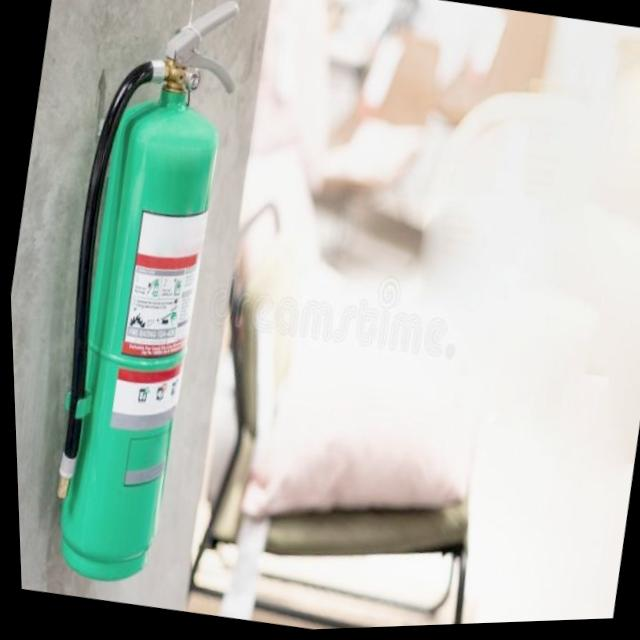FireExtinguisher: (5, 0, 268, 600)
